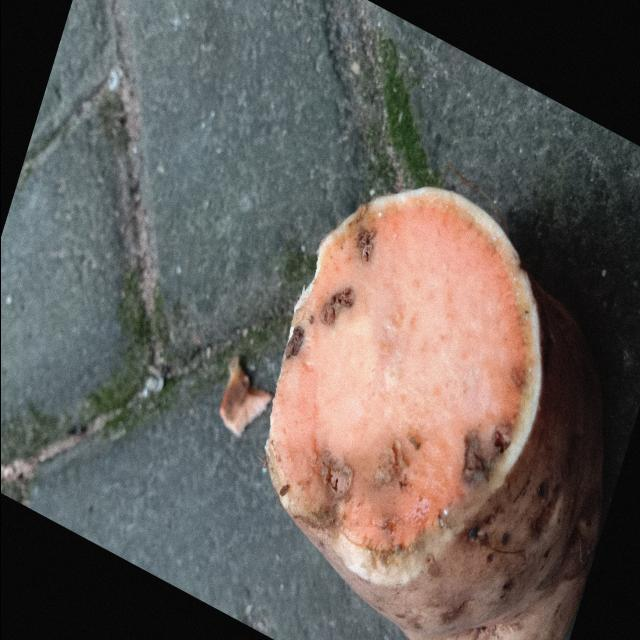Sick Sweet Potato_Tuber Rot: (266, 188, 540, 585)
